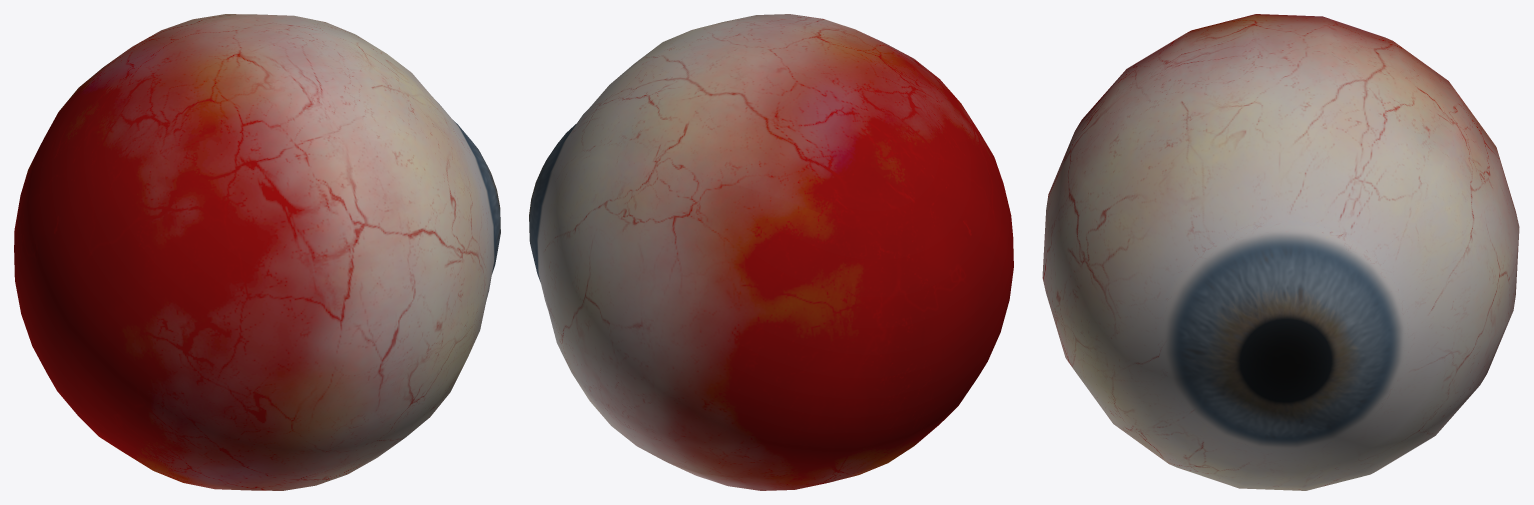
3 views of the same model, side by side, from view 1: azimuth 30°, elevation 25°; view 2: azimuth 150°, elevation 25°; view 3: azimuth 270°, elevation 25° (orthographic).
Visible parts, largest first — view 1: eye_low.005; view 2: eye_low.005; view 3: eye_low.005.
Boxes of the visible parts, x1,y1,x2,y2 form: eye_low.005: [14, 14, 500, 490]; eye_low.005: [529, 14, 1013, 490]; eye_low.005: [1042, 14, 1519, 490].
Size of the model in its own units: 0.2083 by 0.1981 by 0.1981.
1 material, 1 textured.
